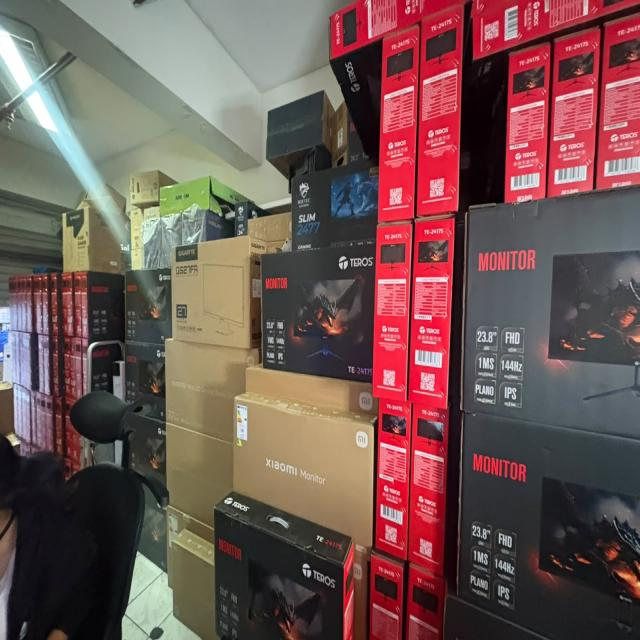caja-monitor: (463, 183, 640, 440), (458, 414, 640, 639), (234, 389, 375, 558), (330, 0, 469, 158), (214, 492, 353, 639), (261, 245, 374, 383), (172, 236, 268, 349), (473, 0, 640, 63), (417, 9, 465, 216), (164, 338, 258, 443), (548, 30, 601, 198), (409, 218, 456, 407), (291, 157, 380, 254), (377, 24, 421, 220), (596, 15, 640, 189), (408, 402, 449, 577), (165, 424, 233, 529), (373, 223, 411, 399), (506, 45, 548, 199), (245, 368, 378, 415), (376, 400, 412, 560), (172, 526, 216, 638), (166, 507, 216, 591), (126, 269, 172, 345), (124, 339, 165, 420), (405, 565, 446, 639), (81, 272, 126, 338), (371, 555, 403, 639), (235, 202, 271, 237), (248, 212, 293, 240), (51, 274, 60, 335), (55, 397, 64, 454), (74, 273, 82, 337), (52, 335, 60, 397), (67, 273, 74, 339), (75, 337, 82, 400), (61, 273, 67, 337), (70, 337, 76, 401), (65, 397, 71, 458), (64, 337, 70, 396)
